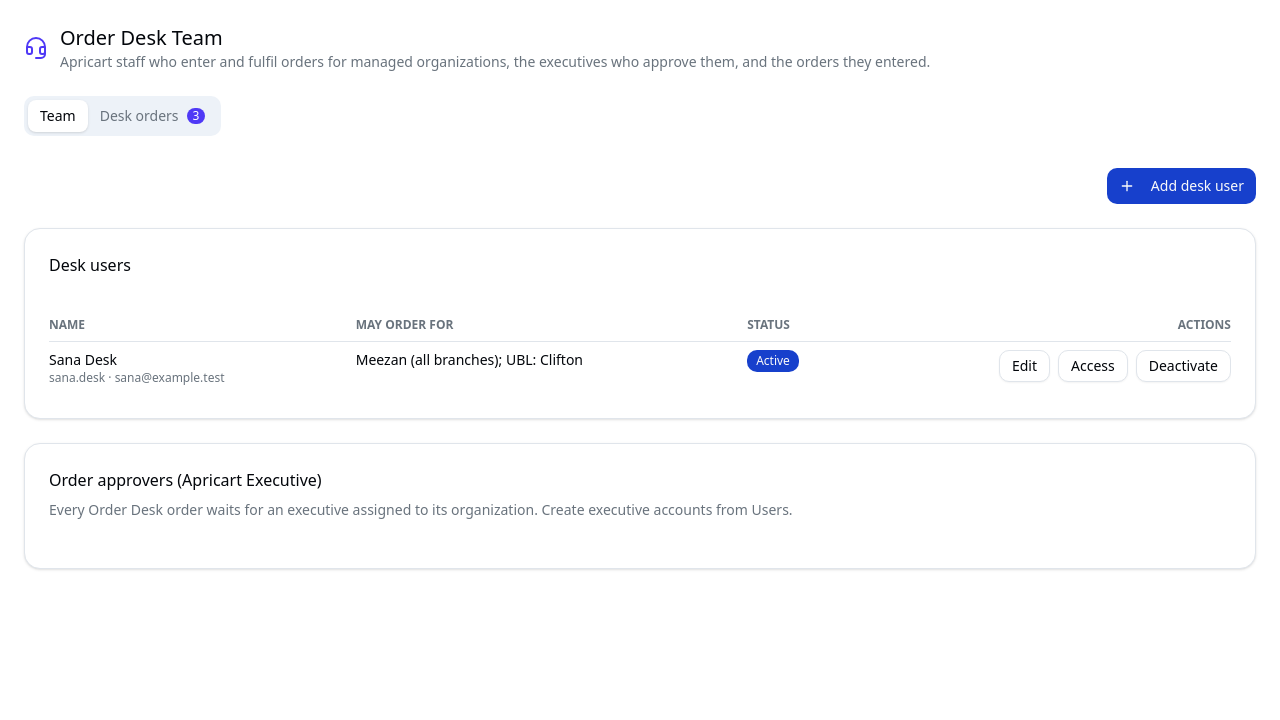
Test case: Order Desk Team › saves access without a grant to an organization that is no longer managed
Step 1. Click the button "Access" → (1093, 366), box x1=1058 y1=350 x2=1128 y2=382
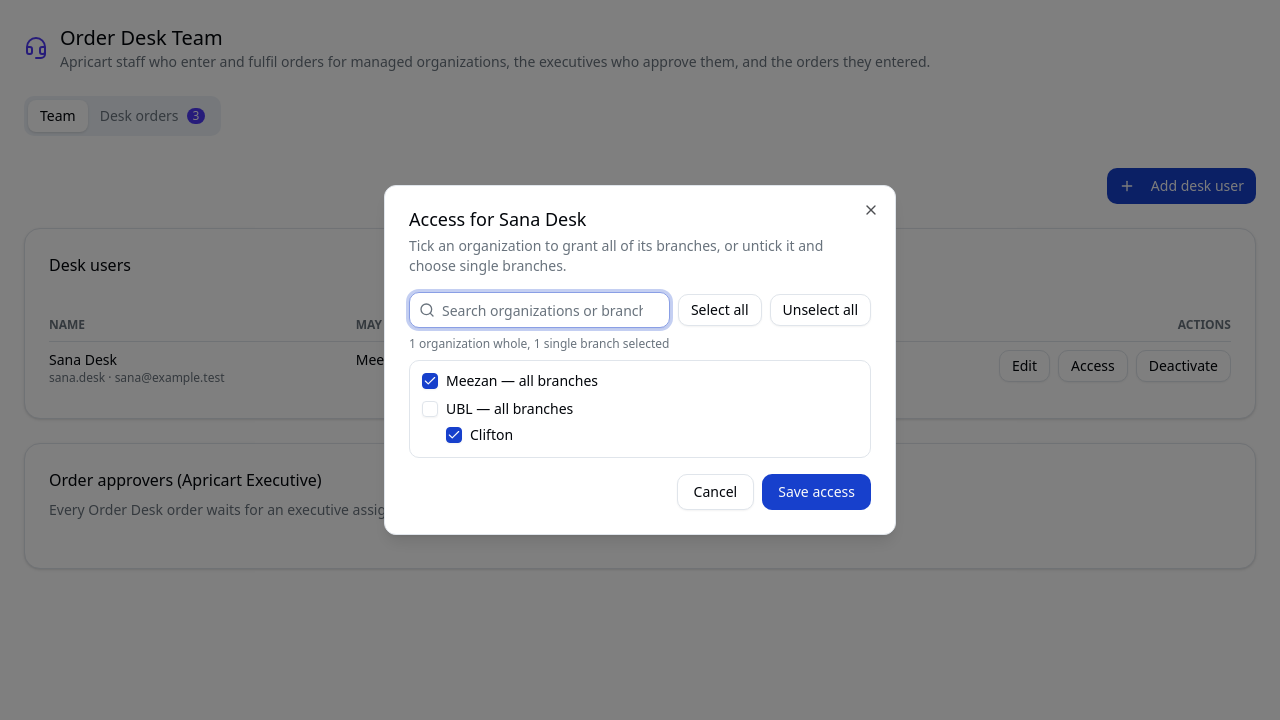
Step 2. Click the button "Save access" → (817, 492), box x1=762 y1=474 x2=871 y2=510
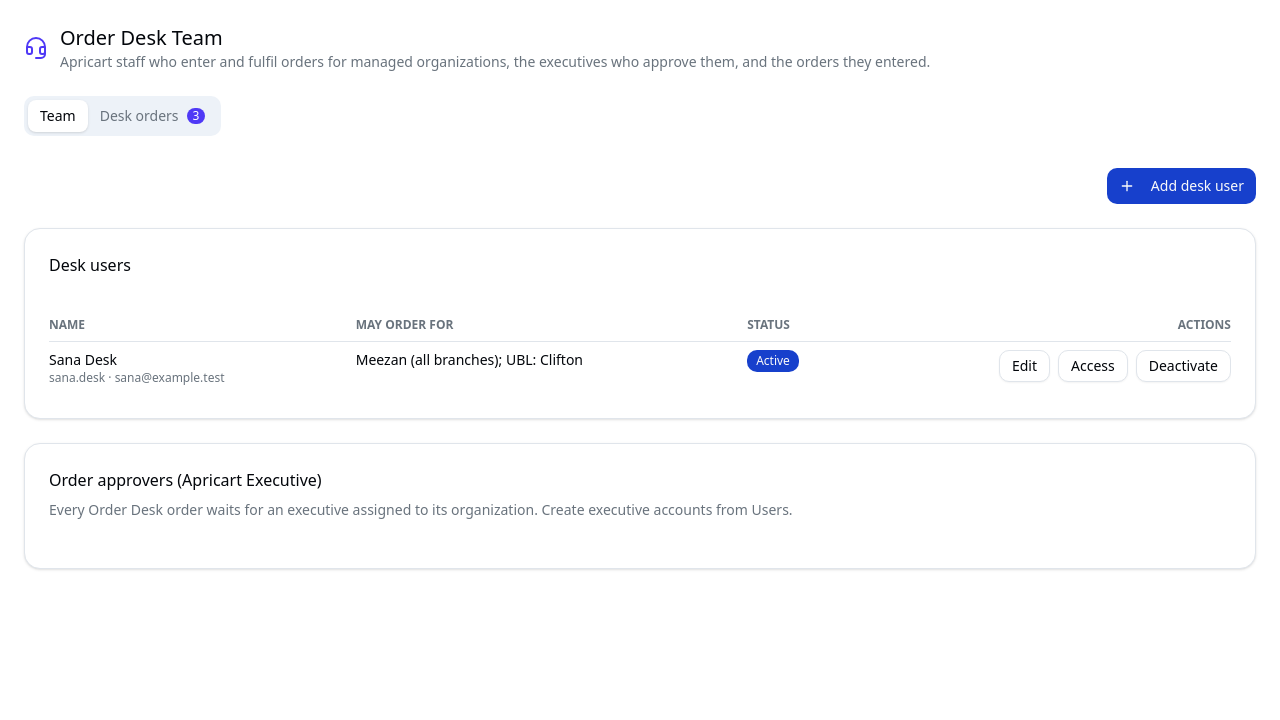
Expected: the dialog is gone
